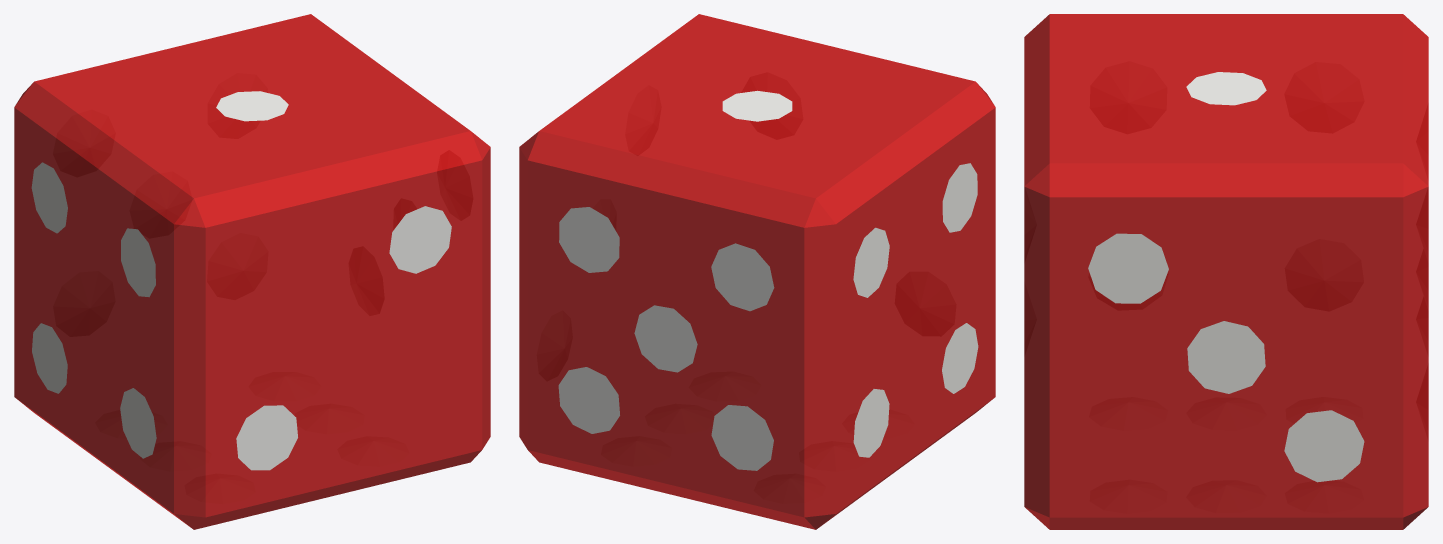
File: casino-die-b25753.glb
3 views of the same model, side by side, from view 1: azimuth 30°, elevation 25°; view 2: azimuth 150°, elevation 25°; view 3: azimuth 270°, elevation 25° (orthographic). The views are drawn at different scales.
Visible parts, largest first — view 1: body, pips; view 2: body, pips; view 3: body, pips.
Part boxes in pixels (<box>): body: <box>14,14,490,529</box>; pips: <box>31,91,451,470</box>; body: <box>519,14,995,529</box>; pips: <box>558,90,978,470</box>; body: <box>1024,14,1428,529</box>; pips: <box>1088,72,1364,482</box>.
Bounding box in the file's own units: 0.019 × 0.019 × 0.019.
